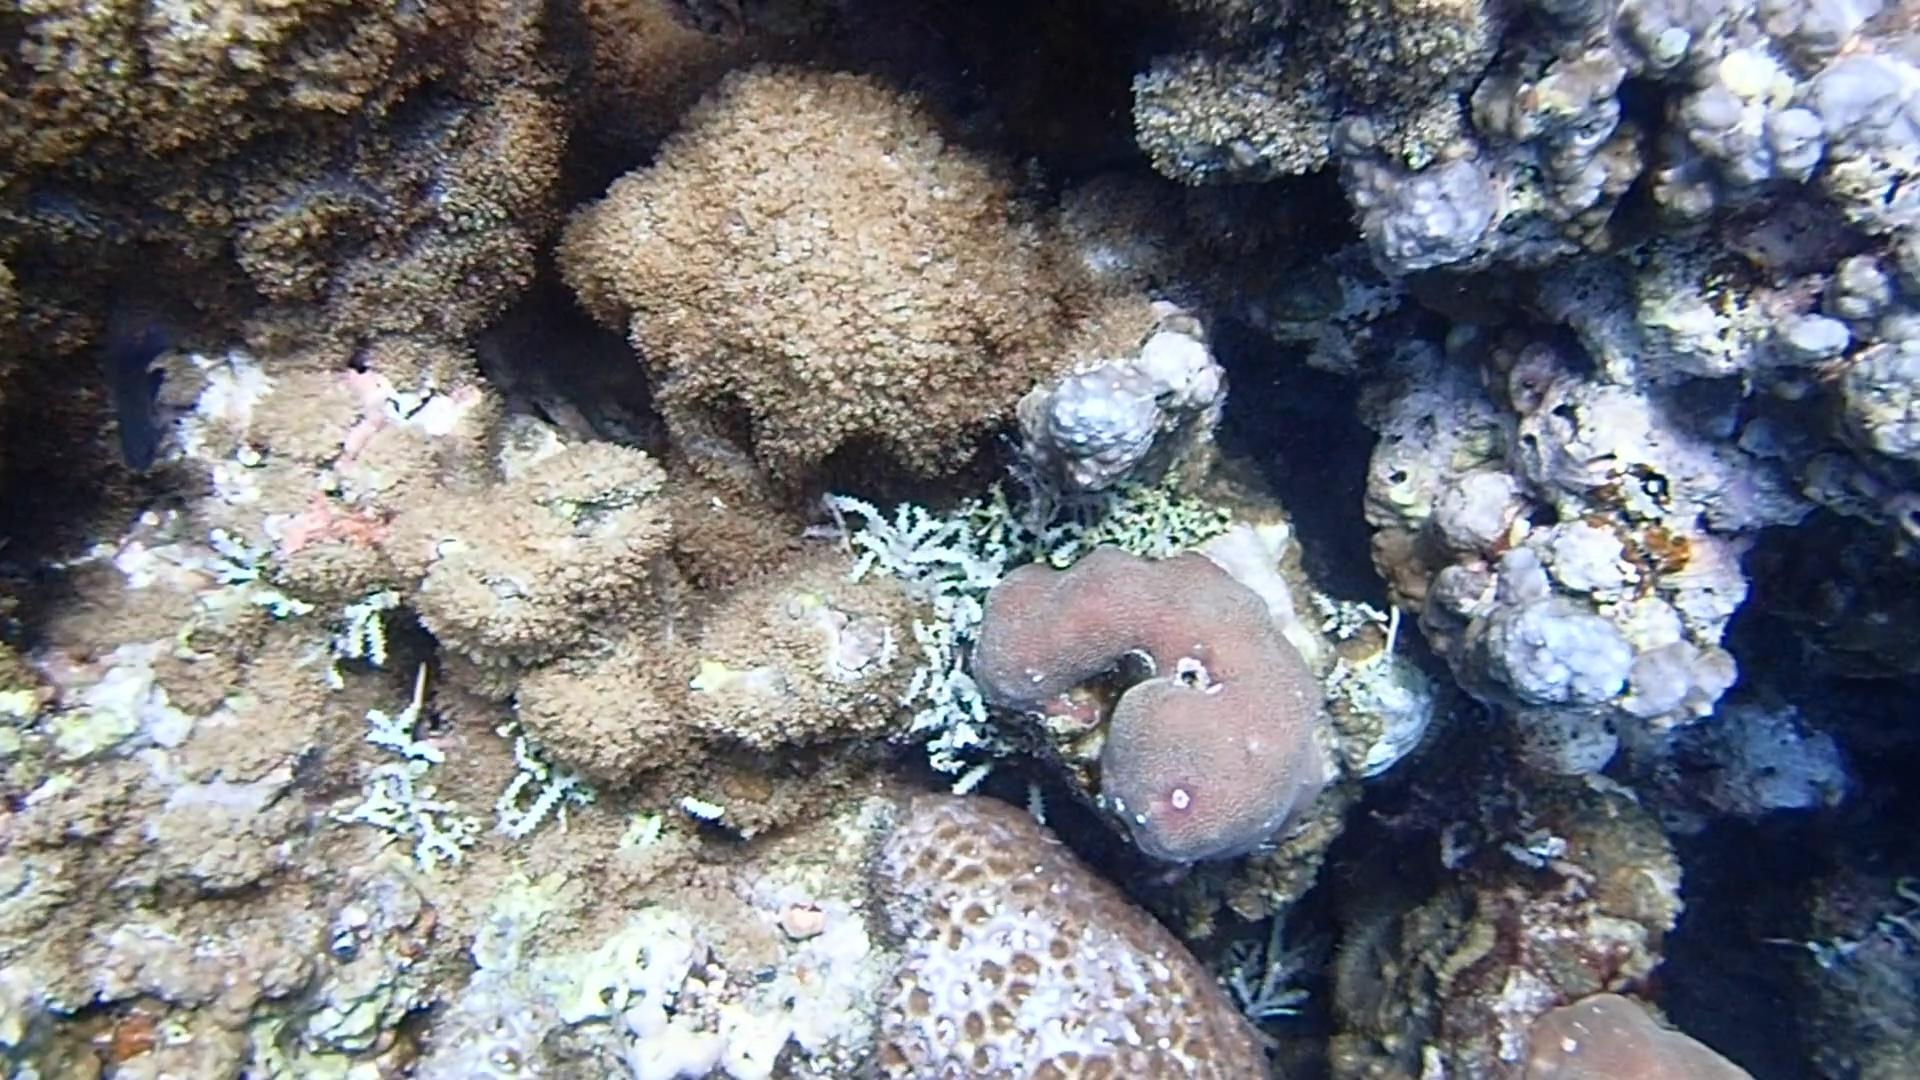Dark Fish: (92, 315, 189, 477)
